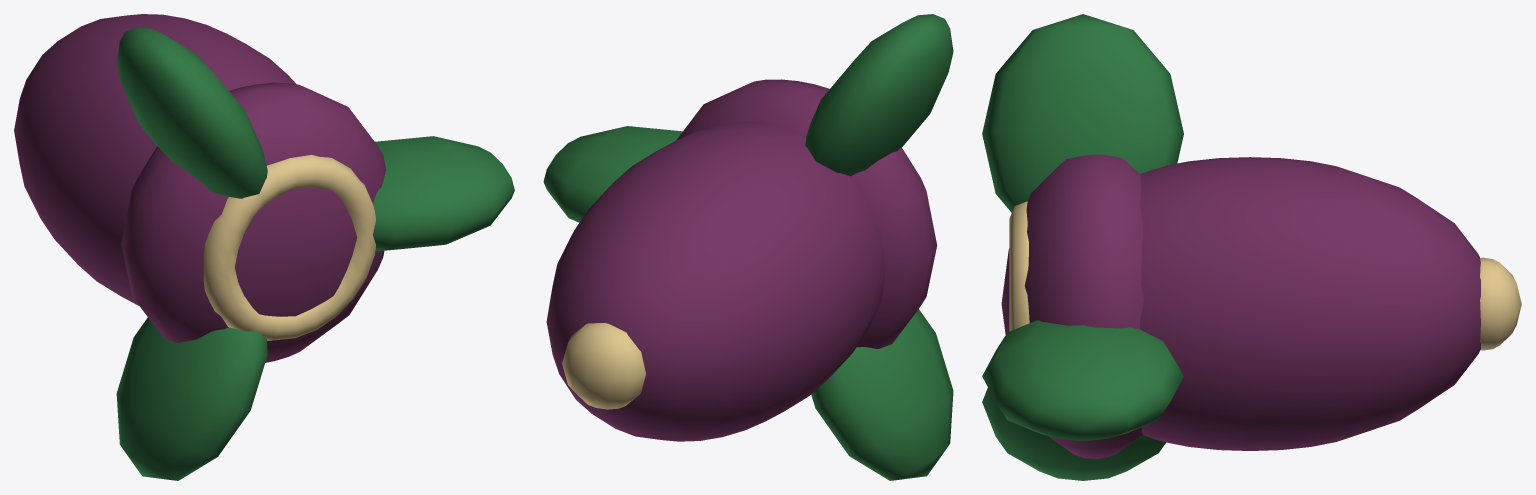
The model's file is item-beet-seeker.glb.
The picture shows the model from 3 angles, left to right: view 1: azimuth 30°, elevation 25°; view 2: azimuth 150°, elevation 25°; view 3: azimuth 270°, elevation 25°; orthographic projection. The views are drawn at different scales.
Visible parts, largest first — view 1: Item_beet-seeker_VertexPalette; view 2: Item_beet-seeker_VertexPalette; view 3: Item_beet-seeker_VertexPalette.
Boxes of the visible parts, x1,y1,x2,y2 form: Item_beet-seeker_VertexPalette: (14, 14, 514, 480); Item_beet-seeker_VertexPalette: (543, 14, 953, 480); Item_beet-seeker_VertexPalette: (982, 14, 1521, 480).
Size of the model in its own units: 1.16 by 1.3 by 1.39.
